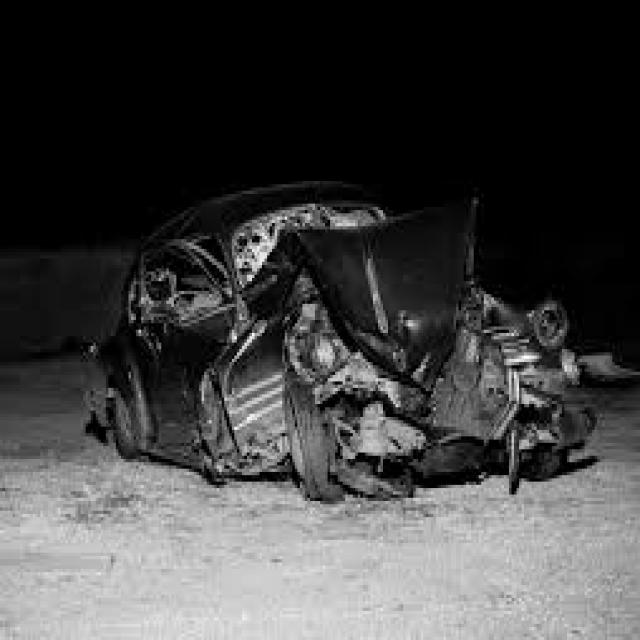severe: (81, 159, 626, 491)
